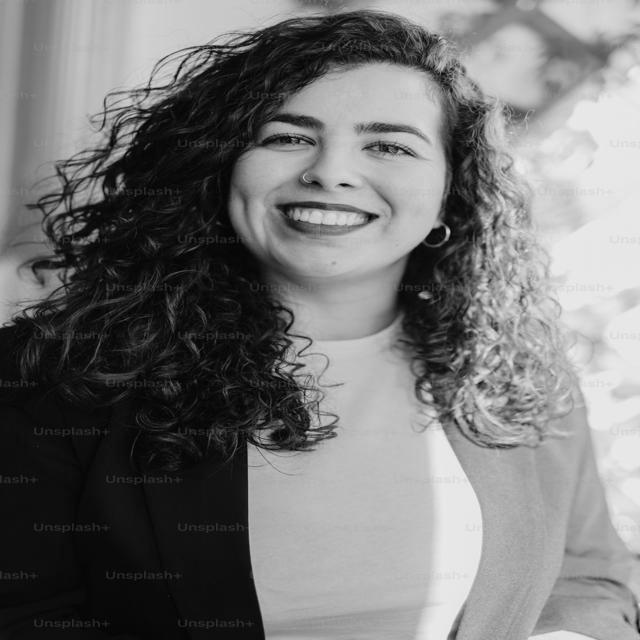Happiness: (228, 63, 451, 279)
